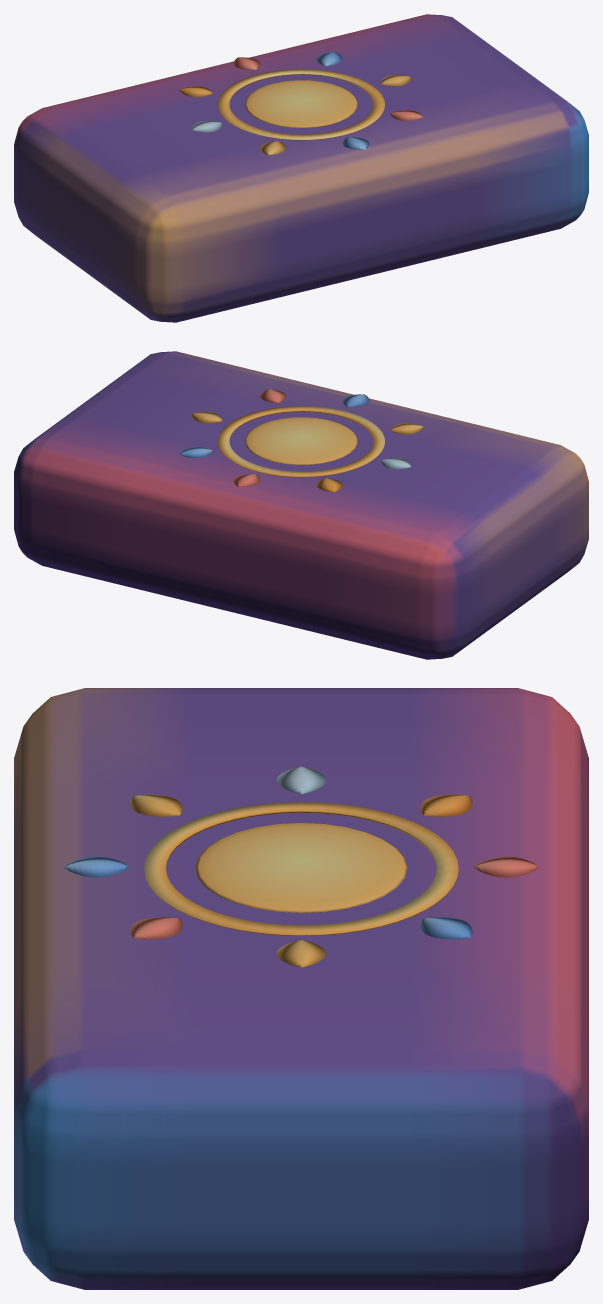
Rendered from Bar_Fusionstone.glb.
3 views of the same model, one above another, from view 1: azimuth 30°, elevation 25°; view 2: azimuth 150°, elevation 25°; view 3: azimuth 270°, elevation 25° (orthographic). The views are drawn at different scales.
Parts seen in each view (by area): view 1: Bar_fusionstone; view 2: Bar_fusionstone; view 3: Bar_fusionstone.
Part boxes in pixels (x1,y1,x2,y2): Bar_fusionstone: (14, 14, 588, 322); Bar_fusionstone: (14, 351, 588, 659); Bar_fusionstone: (14, 688, 588, 1289).
Bounding box in the file's own units: 0.9 × 0.25 × 0.53.
